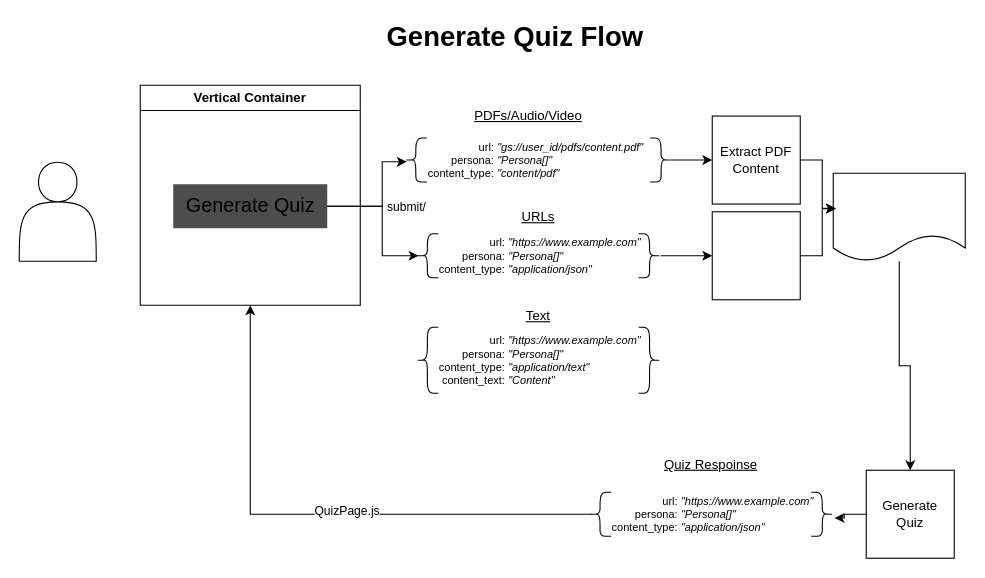
Image size: 985x578. Some labels were removed from this diagram. The shapes that lost their labels are listed below. From the top down, each one's centre as x and y in pixels, then its label:
At (x=898, y=216): "Plain Text Content".
At (x=755, y=255): "Extract URL Content".
